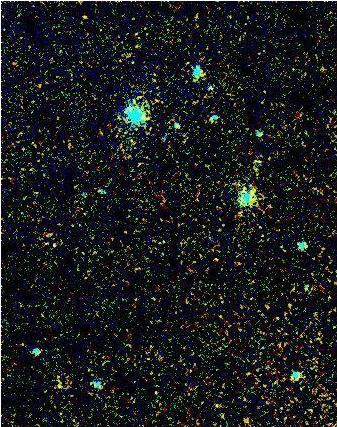star: (45, 370, 75, 400)
